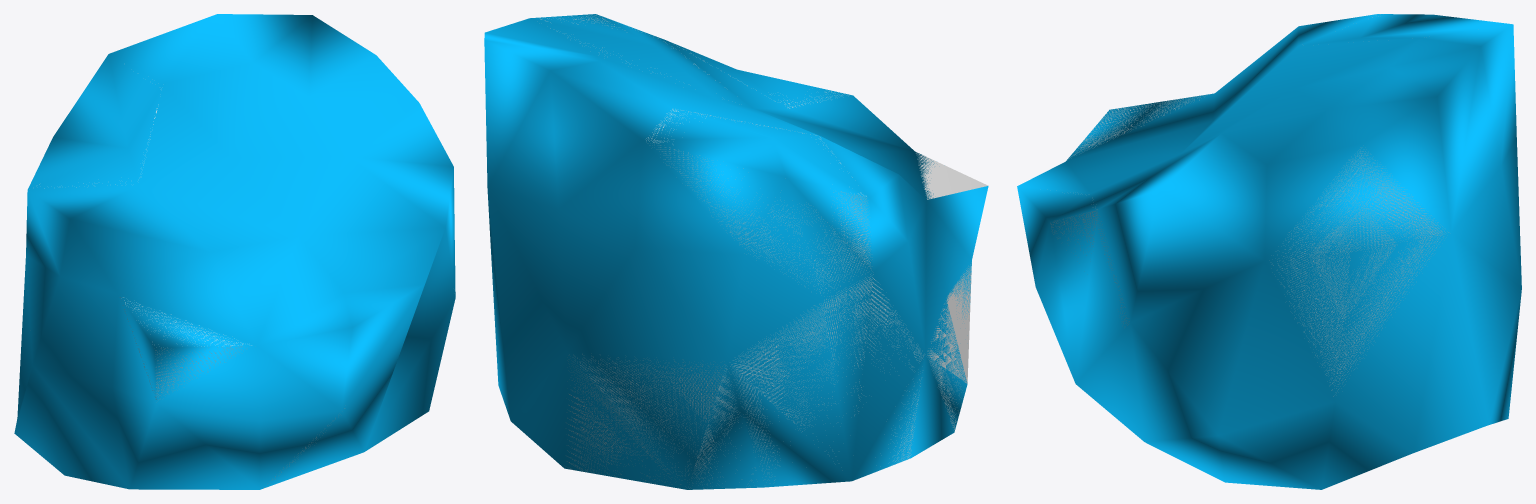
Rendered from PF_Rock_Riser_Slant.glb.
3 views of the same model, side by side, from view 1: azimuth 30°, elevation 25°; view 2: azimuth 150°, elevation 25°; view 3: azimuth 270°, elevation 25° (orthographic). The views are drawn at different scales.
Parts seen in each view (by area): view 1: SM_Rock_Riser_Slant-gcc-stone, SM_Rock_Riser_Slant; view 2: SM_Rock_Riser_Slant-gcc-stone, SM_Rock_Riser_Slant; view 3: SM_Rock_Riser_Slant-gcc-stone, SM_Rock_Riser_Slant.
Boxes of the visible parts, x1,y1,x2,y2 form: SM_Rock_Riser_Slant-gcc-stone: (14, 14, 455, 489); SM_Rock_Riser_Slant: (39, 104, 344, 487); SM_Rock_Riser_Slant-gcc-stone: (484, 14, 988, 489); SM_Rock_Riser_Slant: (540, 15, 987, 488); SM_Rock_Riser_Slant-gcc-stone: (1017, 14, 1521, 489); SM_Rock_Riser_Slant: (1050, 14, 1448, 396).
Bounding box in the file's own units: 14.19 × 12.32 × 13.8.
